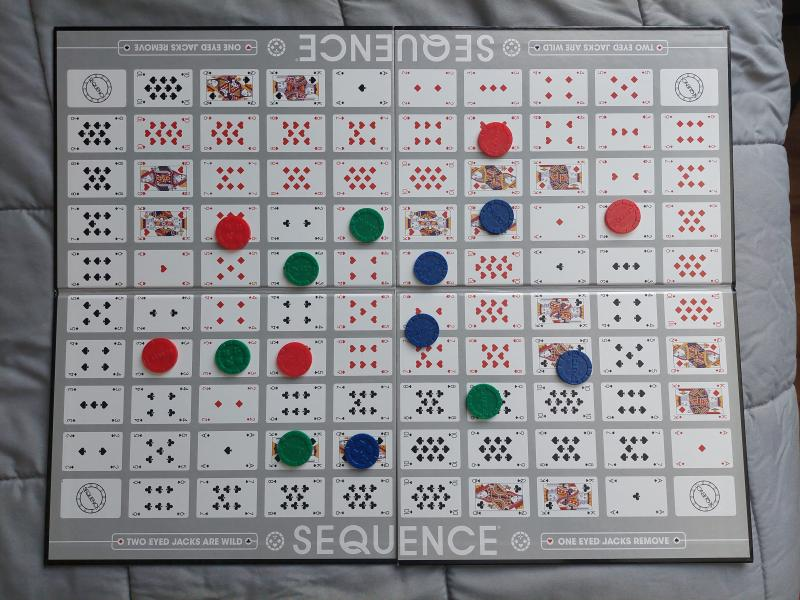Blue_Token: (469, 193, 524, 240), (550, 345, 599, 390), (410, 242, 454, 290), (342, 431, 384, 473), (405, 308, 442, 353)
Green_Token: (268, 422, 321, 472), (211, 336, 256, 382), (346, 206, 390, 250), (462, 381, 506, 423), (282, 248, 321, 290)
Red_Token: (208, 206, 258, 259), (138, 332, 182, 384), (600, 199, 648, 240), (273, 338, 317, 380), (472, 123, 519, 162)
